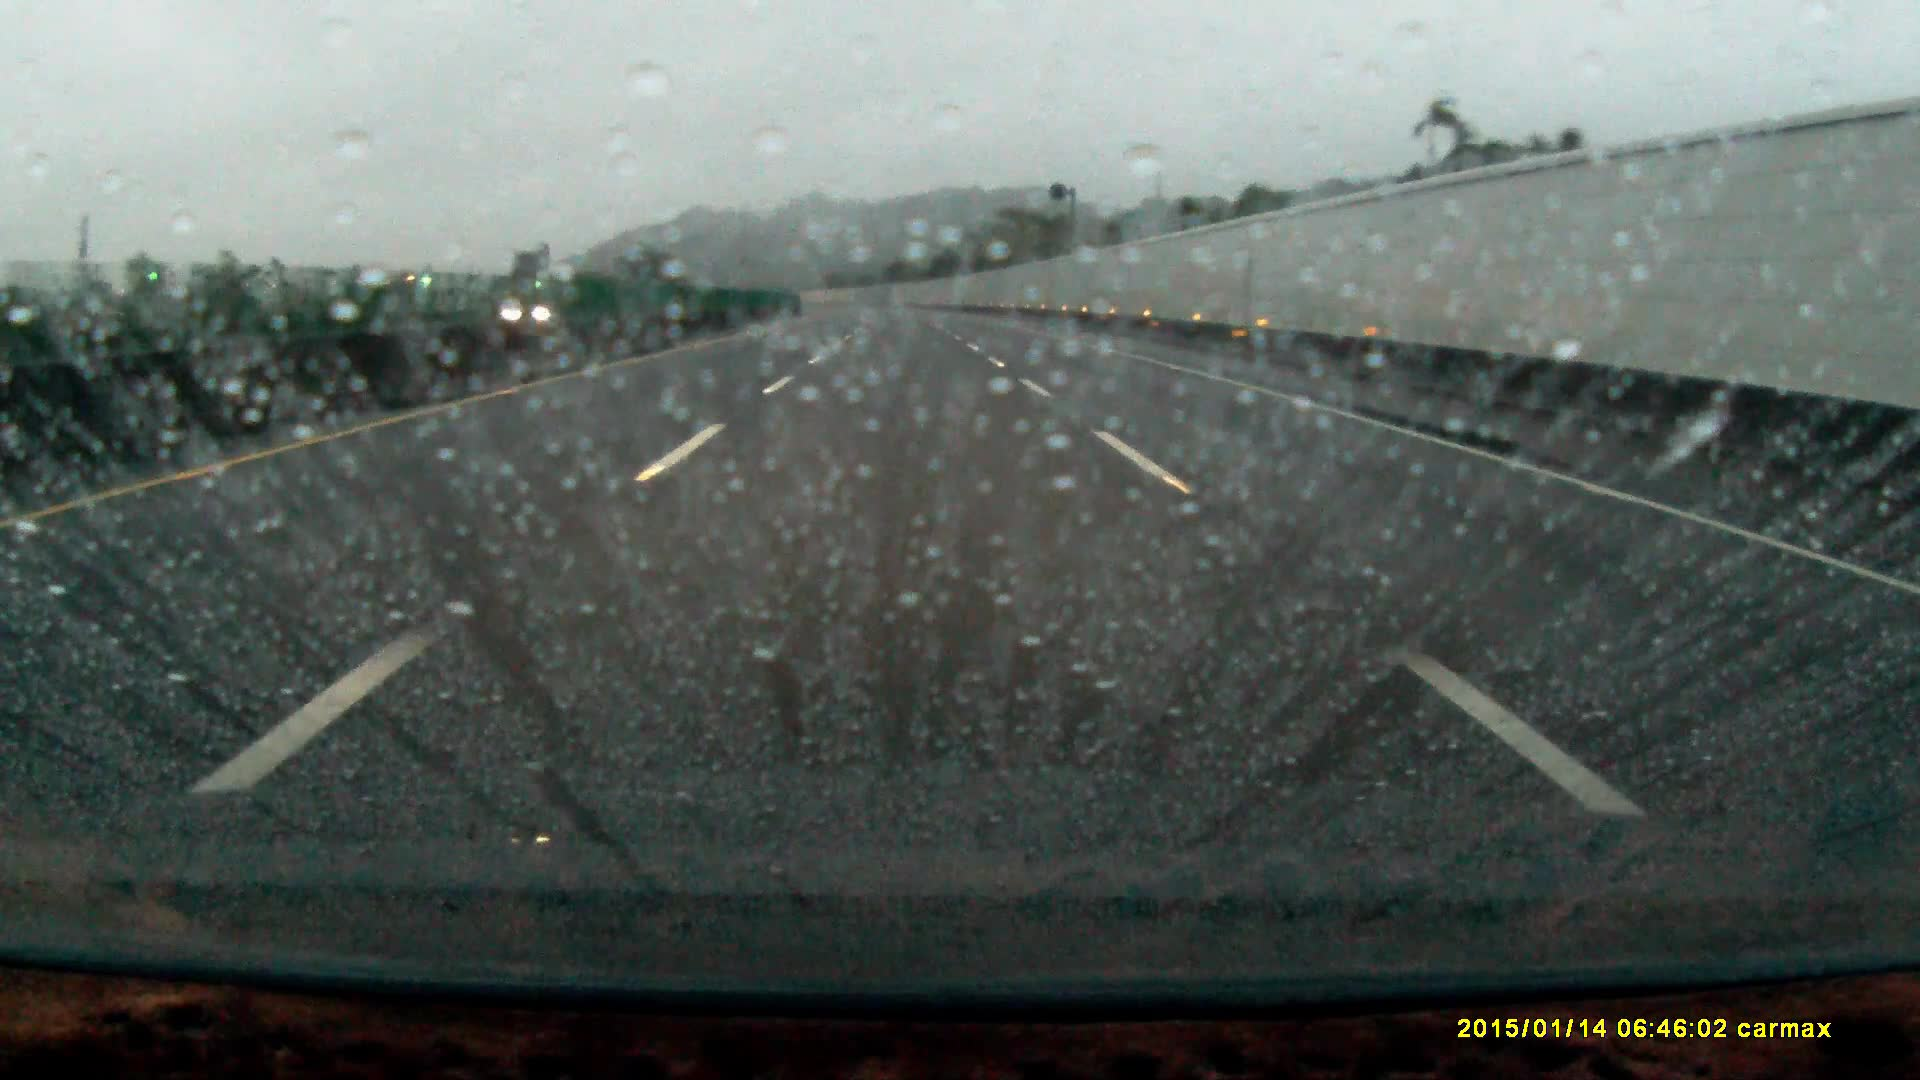vehicle: (501, 290, 574, 326)
